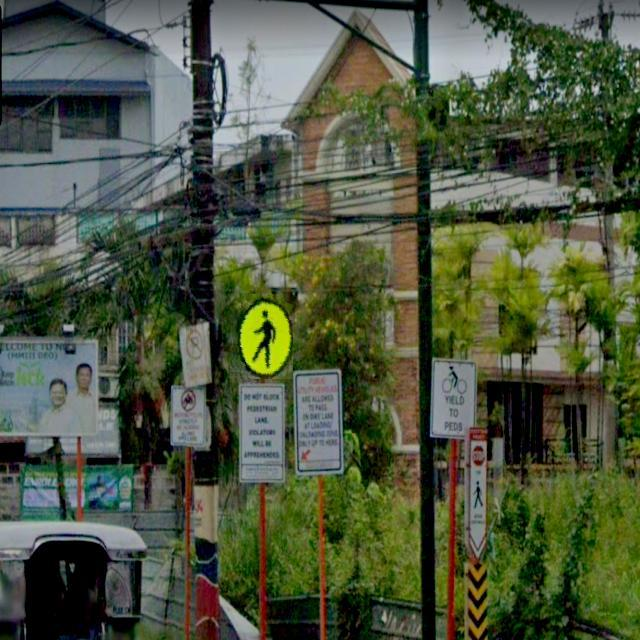pedestrian crossing: (230, 294, 293, 379)
